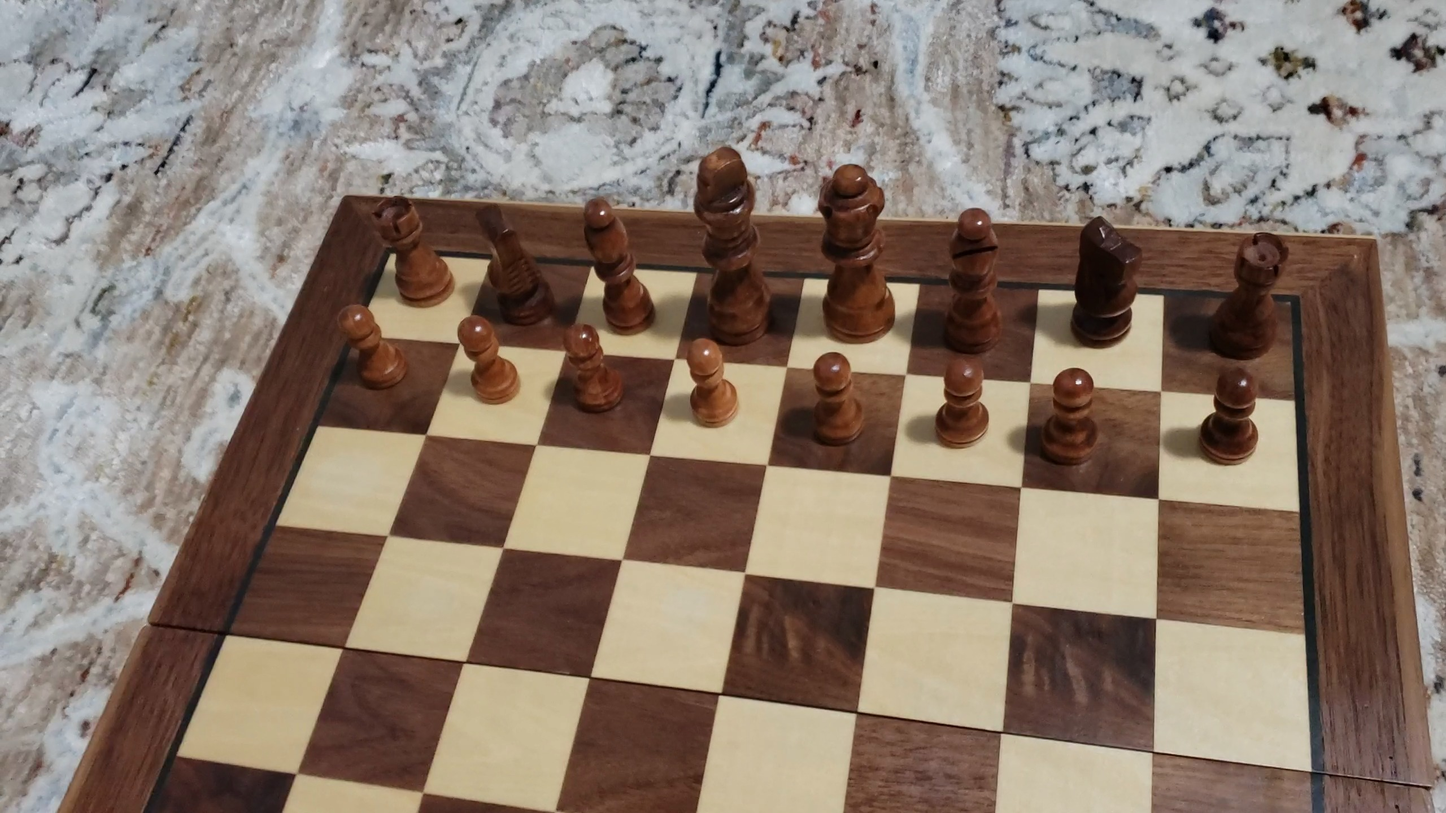black-bishop: (580, 193, 657, 336), (945, 204, 1003, 352)
black-king: (691, 142, 774, 347)
black-knight: (1068, 213, 1144, 346), (474, 200, 554, 326)
black-pawn: (1196, 365, 1264, 468), (1038, 364, 1102, 470), (335, 301, 409, 392), (561, 321, 624, 416), (456, 312, 519, 406), (931, 355, 992, 450), (808, 349, 866, 448), (682, 335, 739, 430)
black-queen: (811, 159, 897, 344)
black-rook: (1205, 230, 1291, 359), (371, 194, 454, 305)
